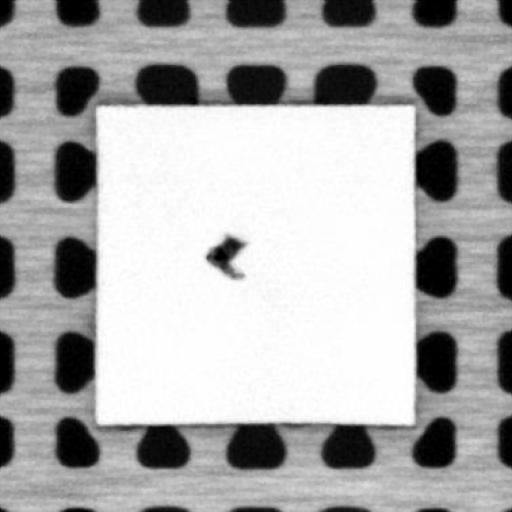DIE_INK: (203, 235, 249, 280)
